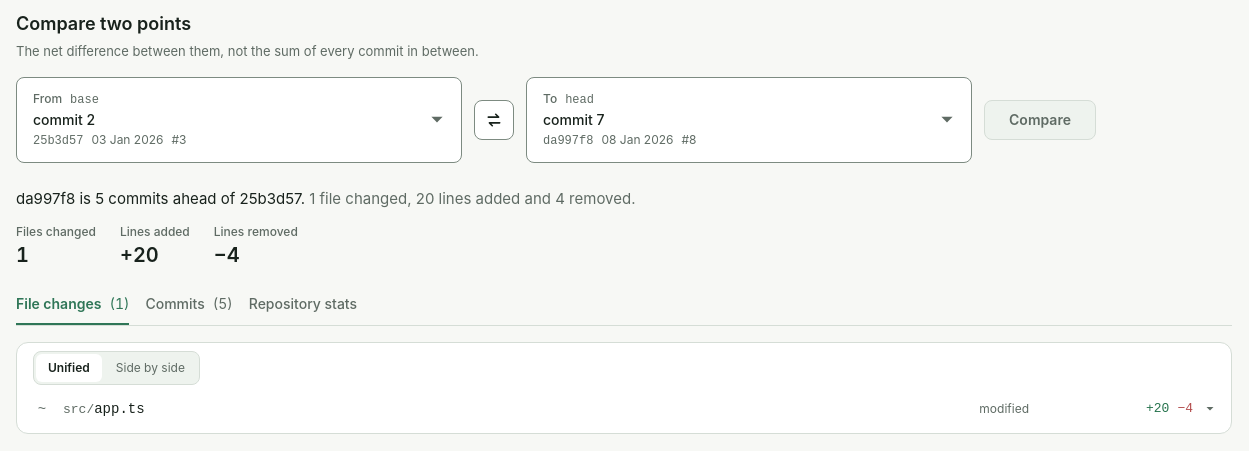
Test: CompareView result › cannot open a commit that is outside the loaded range
Click the tab "Commits (5)": x=189, y=305 145,285 -> 233,325
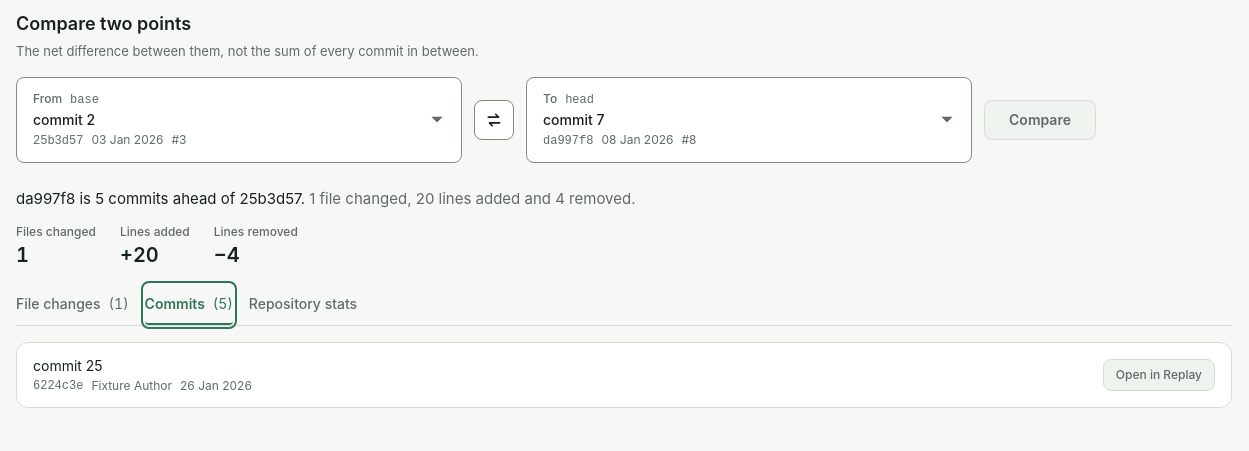
Now the button "Open in Replay" is disabled, box 1103,359 -> 1215,391
